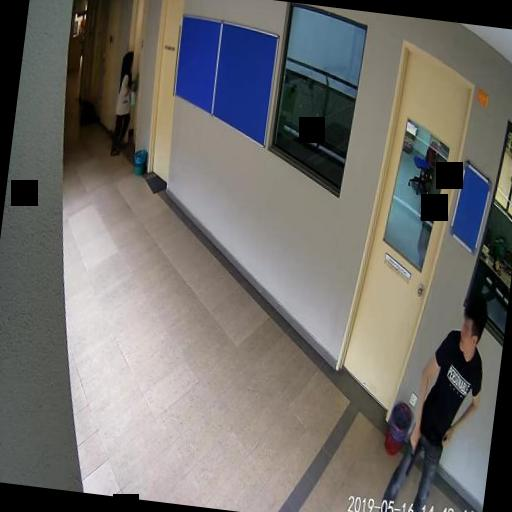Handgun: (406, 431, 422, 475)
